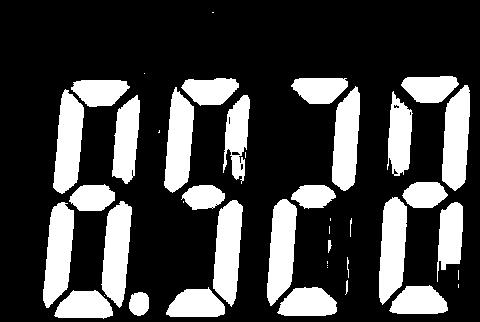2: (267, 72, 363, 317)
8: (43, 76, 143, 320), (374, 72, 473, 315)
9: (160, 72, 253, 321)
dot: (127, 292, 154, 318)
